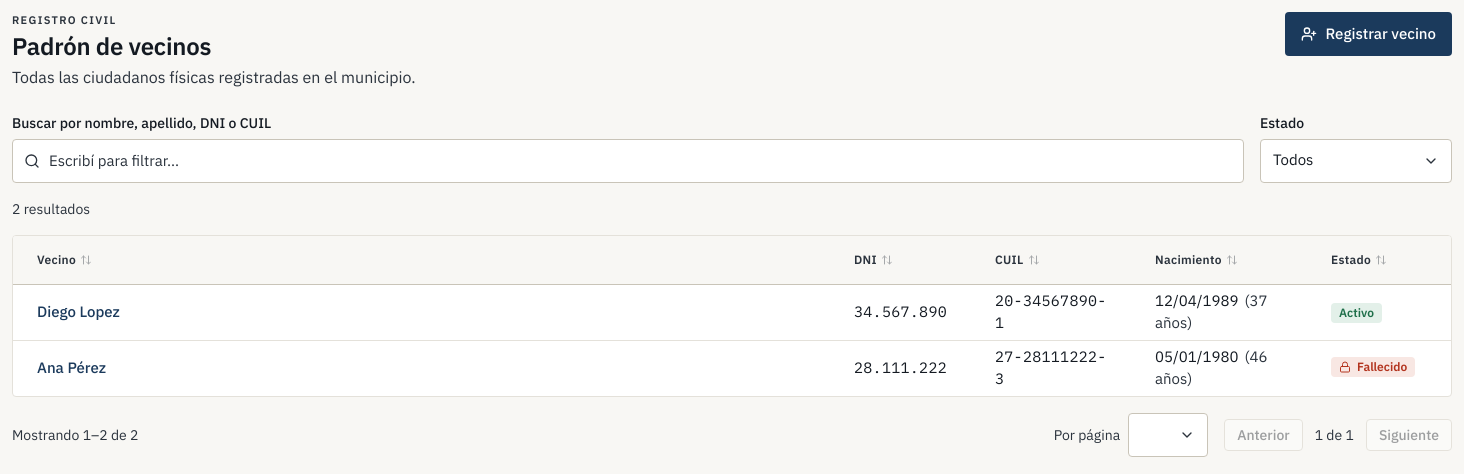
Test case: padrón › busca por apellido sin acentos
The image size is (1464, 474).
Expected: the link "Ana Pérez" is shown, x1=37 y1=358 x2=106 y2=377
Type "perez" into the search field labelled "Buscar por nombre, apellido, DNI o CUIL" at (628, 160), box x1=12 y1=138 x2=1244 y2=182
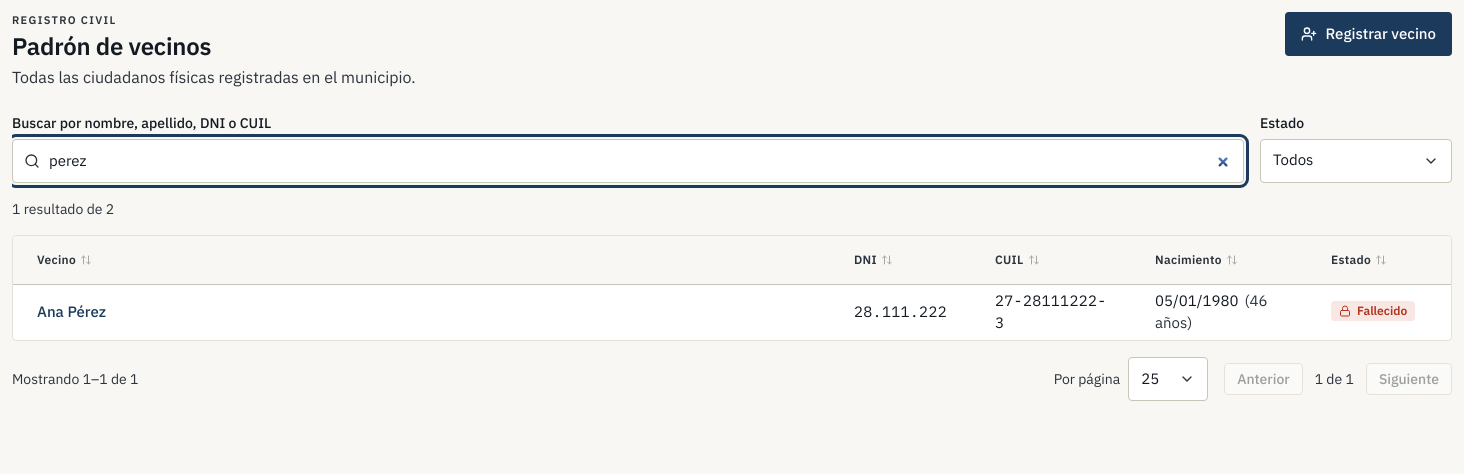
Expected: the link "Ana Pérez" is shown, x1=37 y1=302 x2=106 y2=321
Expected: the link "Diego Lopez" is gone
